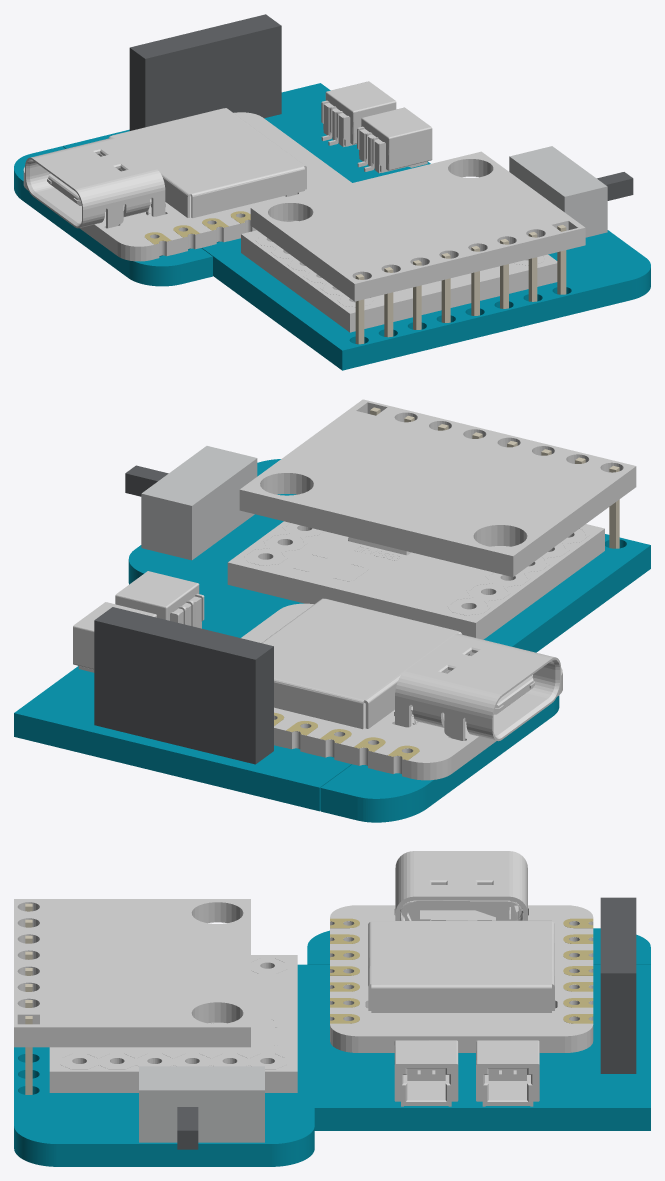
Rendered from gurumi_ele.glb.
3 views of the same model, one above another, from view 1: azimuth 30°, elevation 25°; view 2: azimuth 150°, elevation 25°; view 3: azimuth 270°, elevation 25° (orthographic). The views are drawn at different scales.
Visible parts, largest first — view 1: Mesh_Mesh_head_geo.001_lambert2SG.001; view 2: Mesh_Mesh_head_geo.001_lambert2SG.001; view 3: Mesh_Mesh_head_geo.001_lambert2SG.001.
Boxes of the visible parts, x1,y1,x2,y2 form: Mesh_Mesh_head_geo.001_lambert2SG.001: (14,14,650,370); Mesh_Mesh_head_geo.001_lambert2SG.001: (14,399,650,822); Mesh_Mesh_head_geo.001_lambert2SG.001: (14,851,650,1166).
Size of the model in its own units: 40.37 by 11.64 by 43.03.
